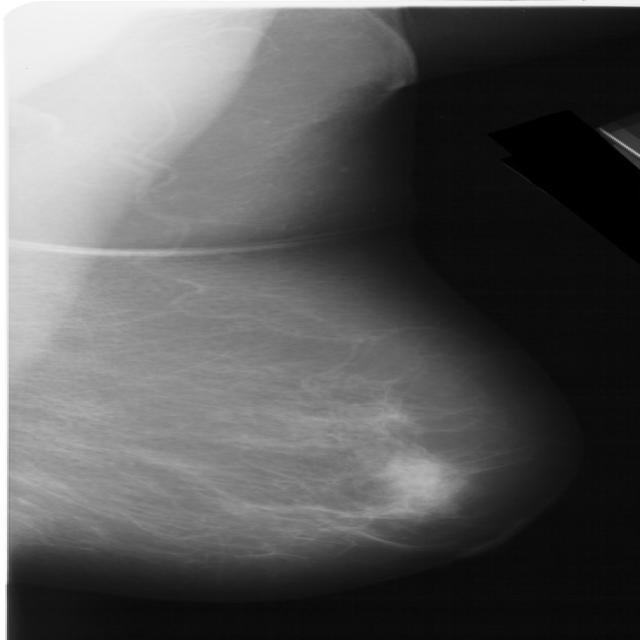tumour: (387, 452, 454, 503)
